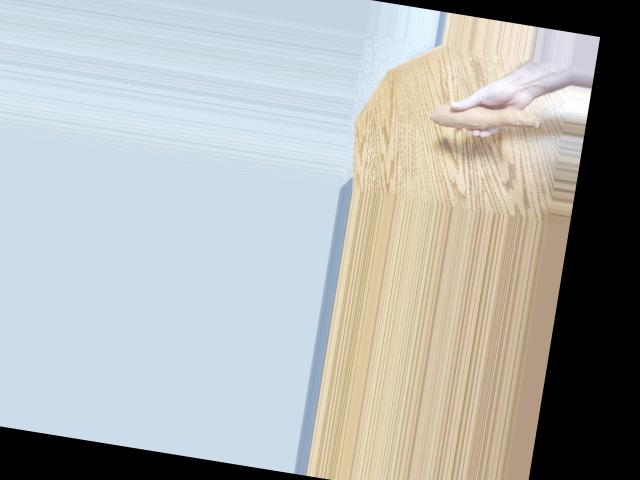sweet_potato: (426, 93, 546, 145)
